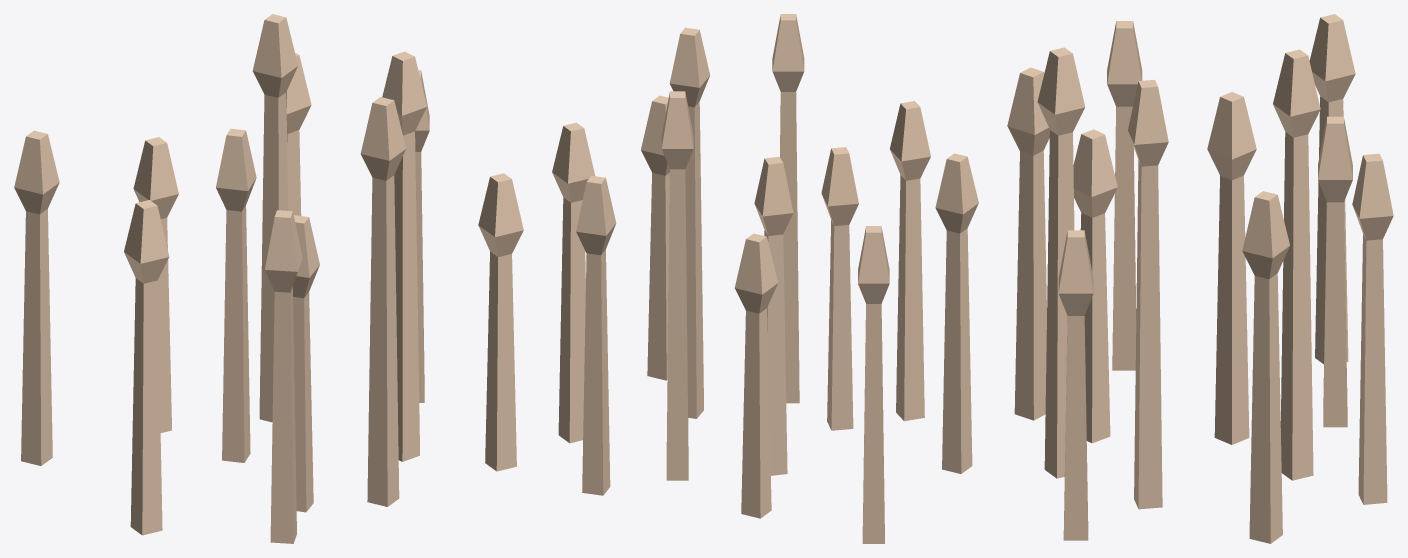
File: crops_wheatStageB.dae
3 renders of one model, left to right at view 1: azimuth 30°, elevation 25°; view 2: azimuth 150°, elevation 25°; view 3: azimuth 270°, elevation 25°, orthographic. The views are drawn at different scales.
Visible parts, largest first — view 1: crops_wheatStageB; view 2: crops_wheatStageB; view 3: crops_wheatStageB.
Part boxes in pixels (x1,y1,x2,y2): crops_wheatStageB: (14, 14, 523, 543); crops_wheatStageB: (552, 14, 978, 543); crops_wheatStageB: (1007, 14, 1393, 543).
Bounding box in the file's own units: 0.5396 × 0.5349 × 0.4467.
